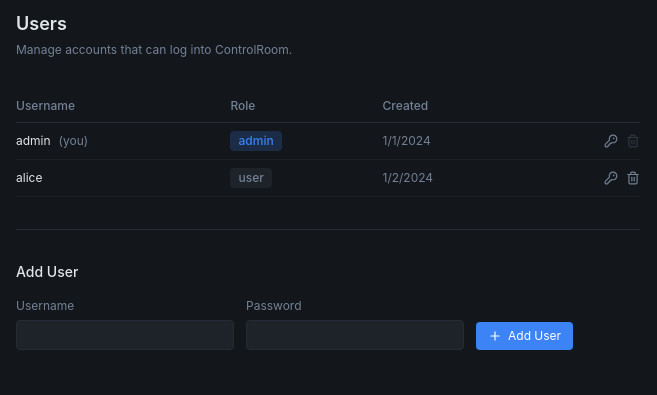
Test: UsersPage › toggles a user role and shows success message
Expected: the text "alice" is shown, x1=16 y1=160 x2=230 y2=196
Click the button titled "switch to admin": [251, 178] box x1=230 y1=168 x2=272 y2=188
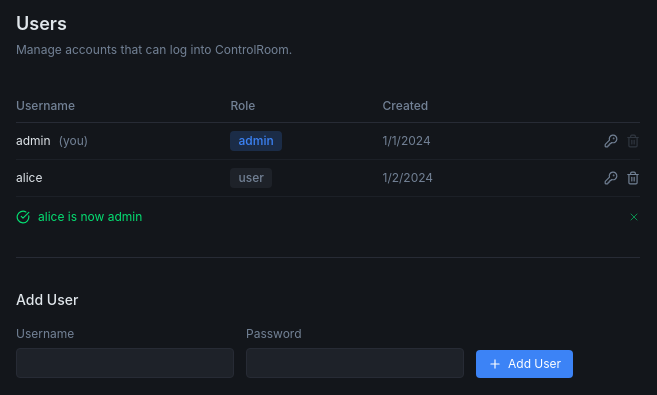
Expected: the text "alice is now admin" is shown, x1=38 y1=209 x2=142 y2=224
